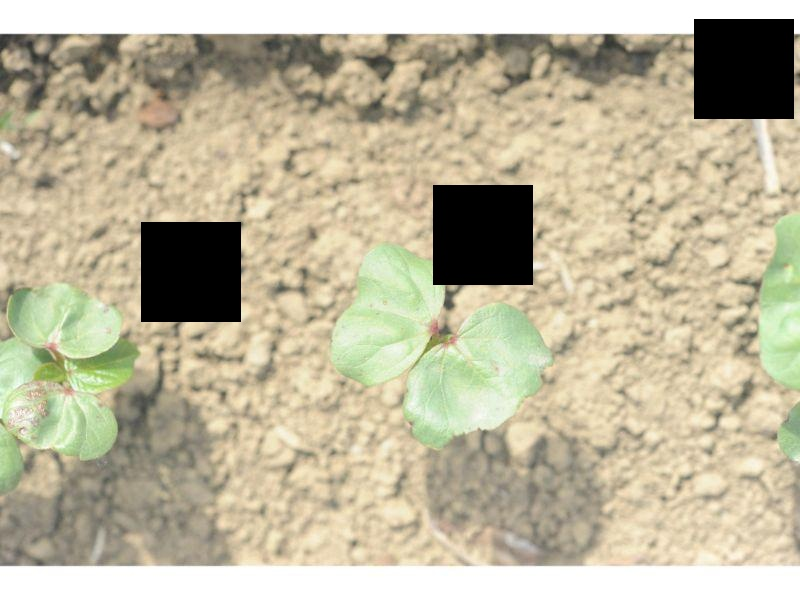cotton: (330, 243, 554, 452), (0, 278, 139, 495)
